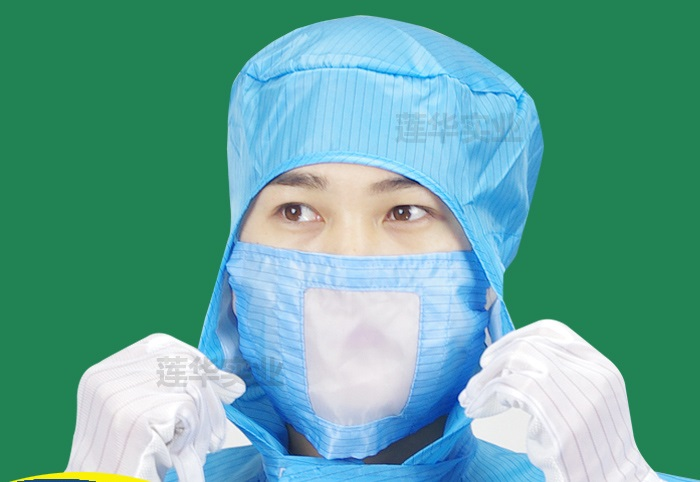face_mask: (235, 135, 472, 433)
